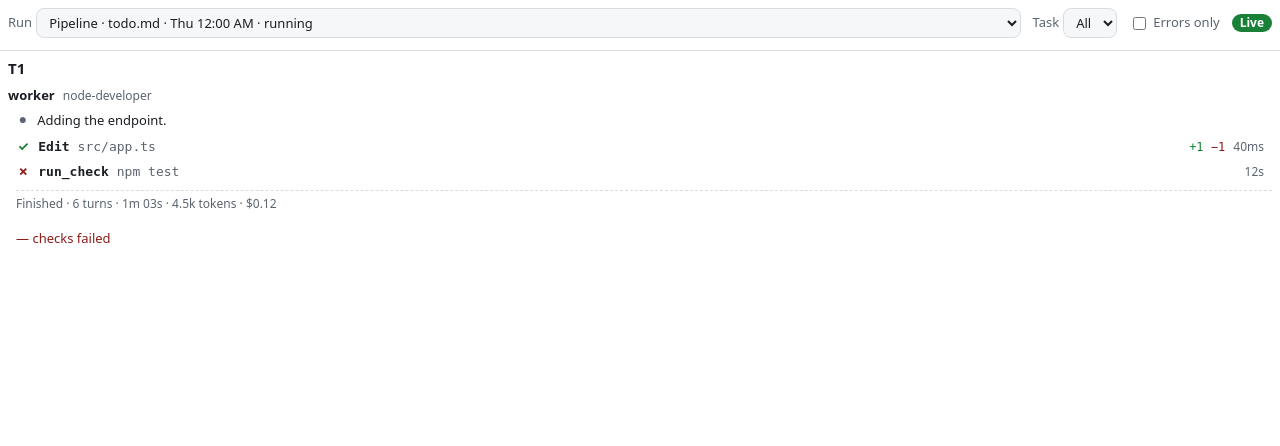
Test case: TraceView › expands a row to show the diff, or the input and output
Click the button "✓ Edit src/app.ts +1 −1 40ms": (54, 146) [8, 135, 1272, 158]
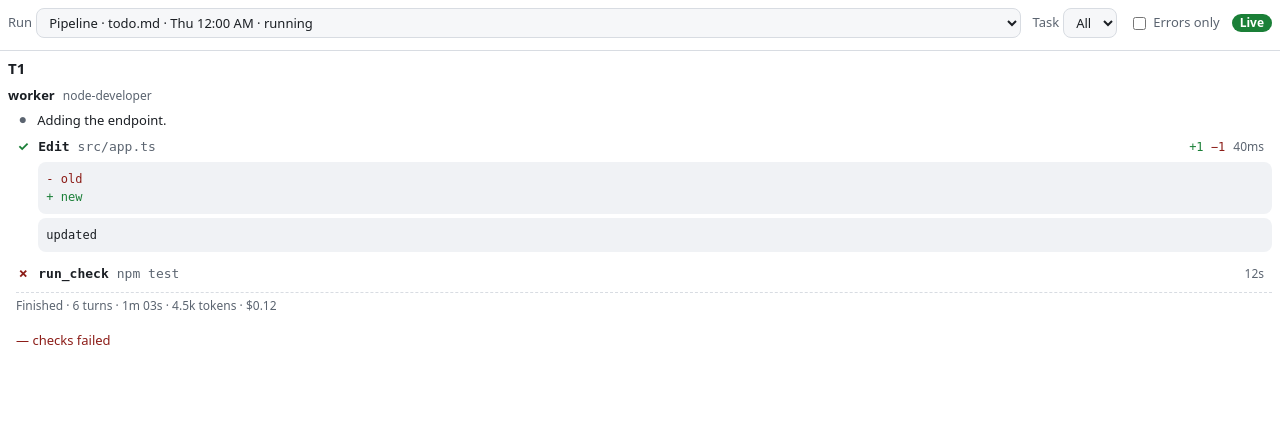
Now the element named "Changes" reads "- old + new", box [38, 162, 1272, 214]
Click the button "✗ run_check npm test 12s": (74, 274) [8, 262, 1272, 286]
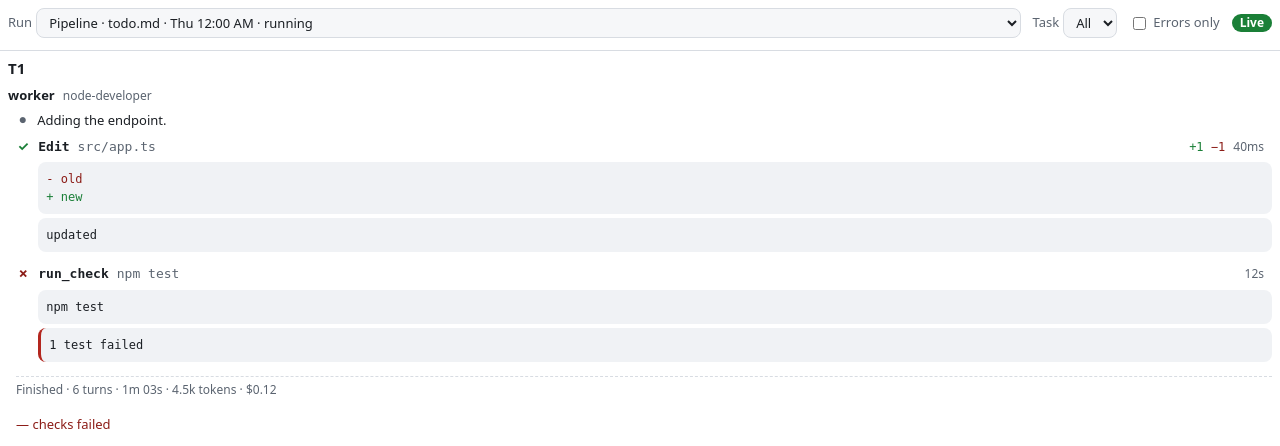
Now the text named "Input" reads "npm test", box [46, 300, 104, 314]
Now the fields labelled "Output" read "updated", "1 test failed", in this order, box [38, 218, 1272, 252]; [38, 328, 1272, 362]
